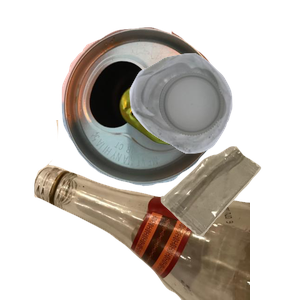glass: (31, 120, 271, 300)
metal: (59, 10, 273, 189)
plastic: (127, 51, 300, 197)
trash: (158, 144, 300, 300)
